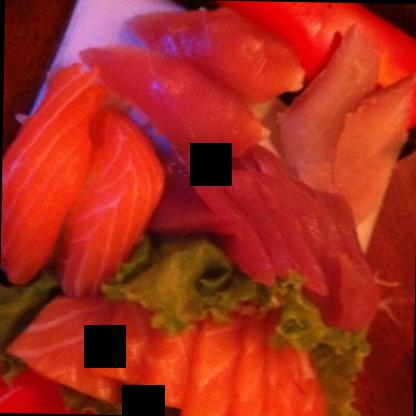salmon: (6, 281, 337, 415), (42, 117, 167, 297), (0, 70, 96, 281)
tuna: (154, 150, 379, 324), (74, 49, 264, 154), (128, 11, 300, 98)
